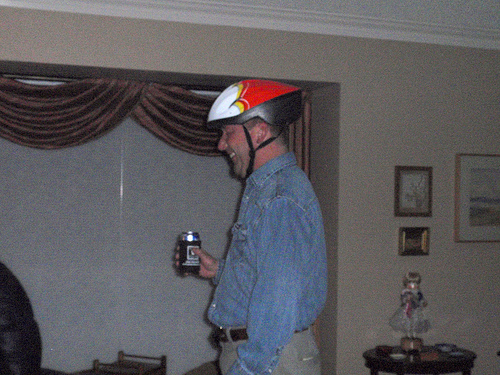helmet: (212, 81, 306, 131)
